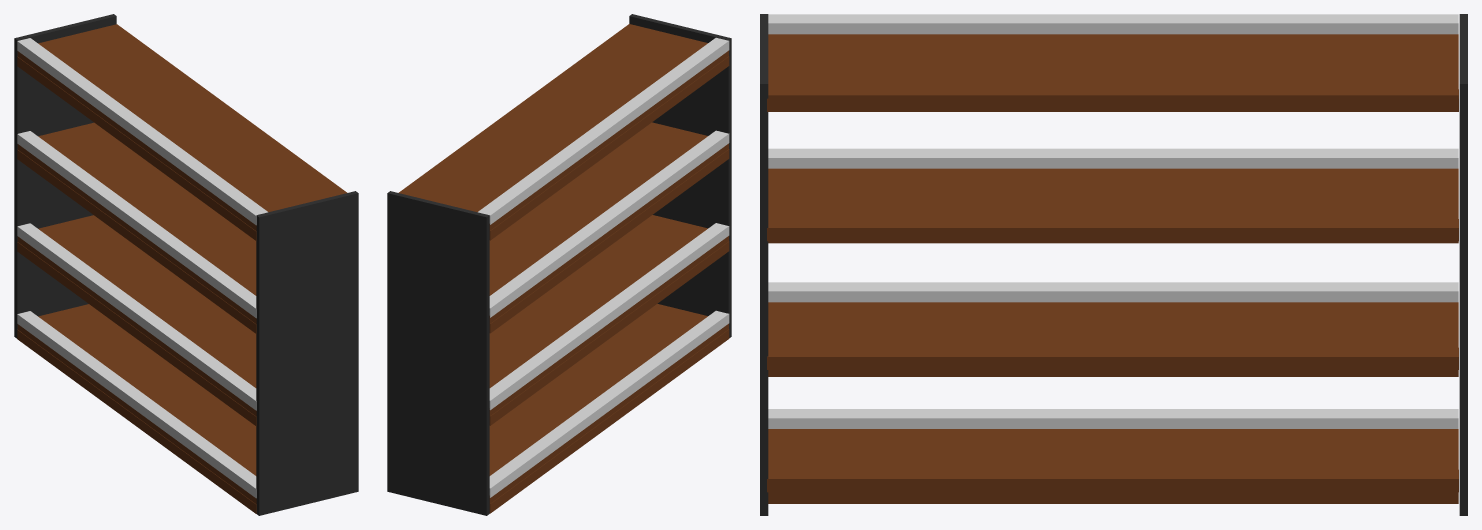
File: UVSHelf.fbx
3 renders of one model, left to right at view 1: azimuth 30°, elevation 25°; view 2: azimuth 150°, elevation 25°; view 3: azimuth 270°, elevation 25°, orthographic. The views are drawn at different scales.
Parts seen in each view (by area): view 1: Cube.003; view 2: Cube.003; view 3: Cube.003.
Part boxes in pixels (<box>): Cube.003: <box>14,14,358,515</box>; Cube.003: <box>387,14,731,515</box>; Cube.003: <box>760,14,1467,515</box>.
Size of the model in its own units: 201 by 574 by 853.
